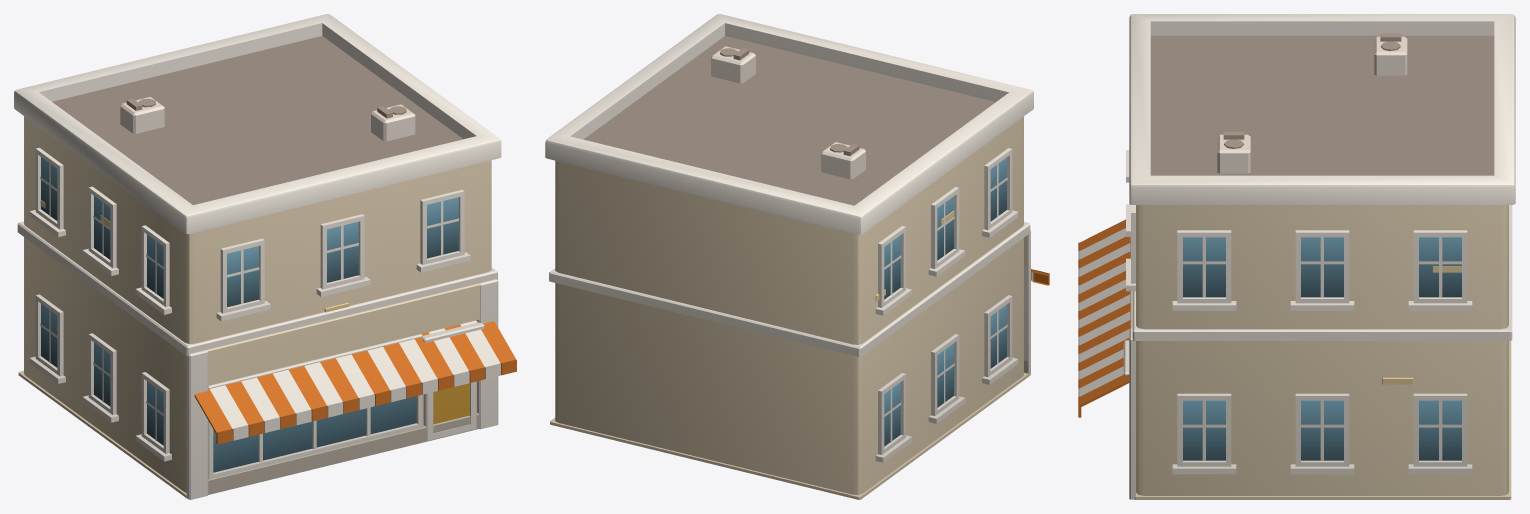
Rendered from vee_left3.glb.
3 renders of one model, left to right at view 1: azimuth 30°, elevation 25°; view 2: azimuth 150°, elevation 25°; view 3: azimuth 270°, elevation 25°, orthographic. The views are drawn at different scales.
Visible parts, largest first — view 1: vee_left3; view 2: vee_left3; view 3: vee_left3.
Part boxes in pixels (x1,y1,x2,y2): vee_left3: [14, 14, 516, 499]; vee_left3: [545, 14, 1049, 499]; vee_left3: [1078, 14, 1515, 499].
Size of the model in its own units: 9.98 by 8.79 by 10.55.
1 material, 1 textured.
